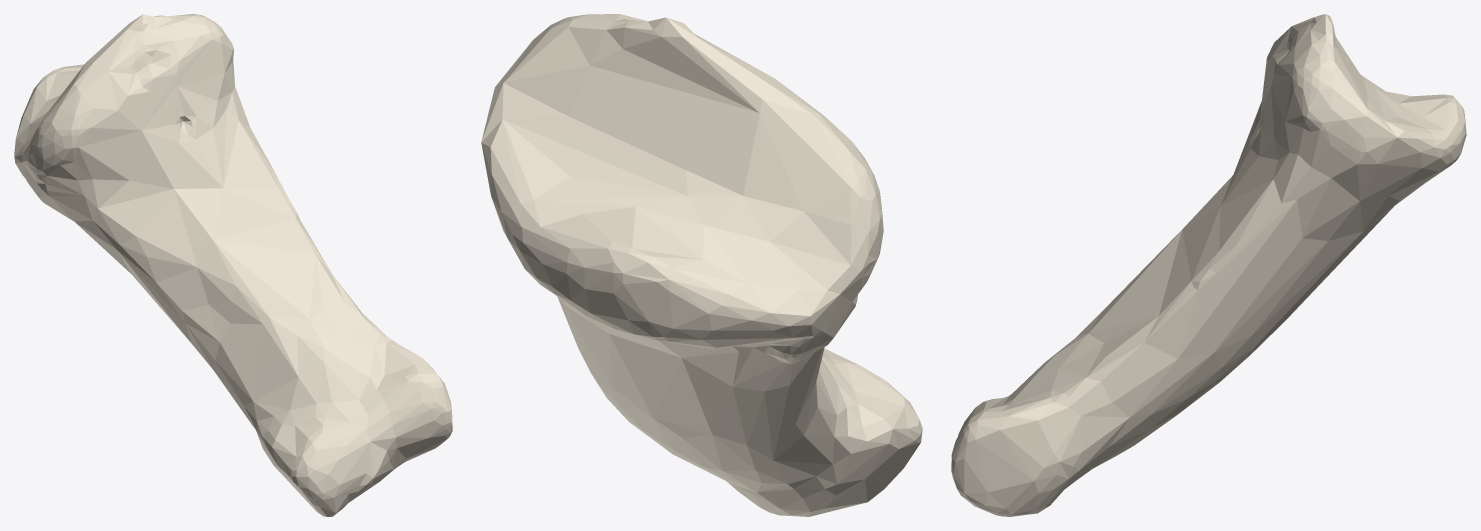
Rendered from left_index_middle_phalanx.glb.
3 renders of one model, left to right at view 1: azimuth 30°, elevation 25°; view 2: azimuth 150°, elevation 25°; view 3: azimuth 270°, elevation 25°, orthographic. The views are drawn at different scales.
Visible parts, largest first — view 1: left_index_middle_phalanx; view 2: left_index_middle_phalanx; view 3: left_index_middle_phalanx.
Boxes of the visible parts, x1,y1,x2,y2 form: left_index_middle_phalanx: [14, 14, 452, 516]; left_index_middle_phalanx: [481, 14, 922, 516]; left_index_middle_phalanx: [951, 14, 1466, 516].
Size of the model in its own units: 0.0147 by 0.0207 by 0.0209.
